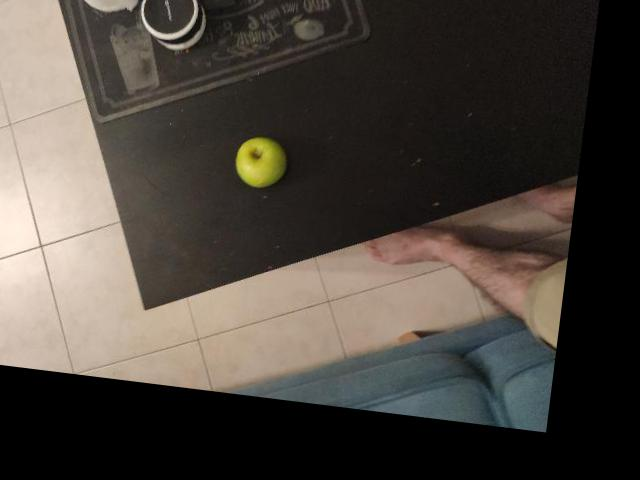apple: (228, 128, 296, 188)
